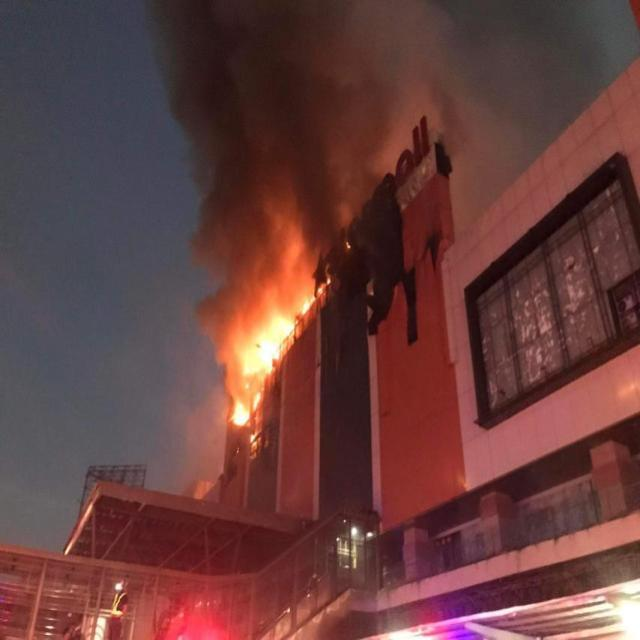Fire: (228, 338, 268, 431), (262, 302, 310, 352)
Smoke: (156, 6, 319, 347), (317, 2, 598, 108), (308, 100, 377, 197)
